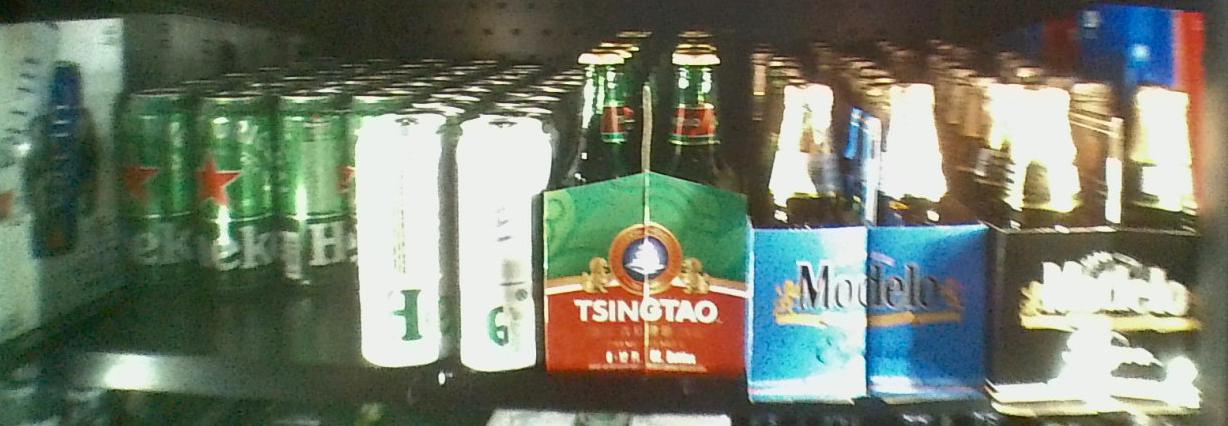bottle: (753, 79, 985, 409), (988, 87, 1204, 412), (548, 43, 750, 375), (353, 121, 452, 367), (452, 120, 542, 374), (192, 93, 273, 289), (116, 93, 193, 283), (277, 94, 343, 280)
